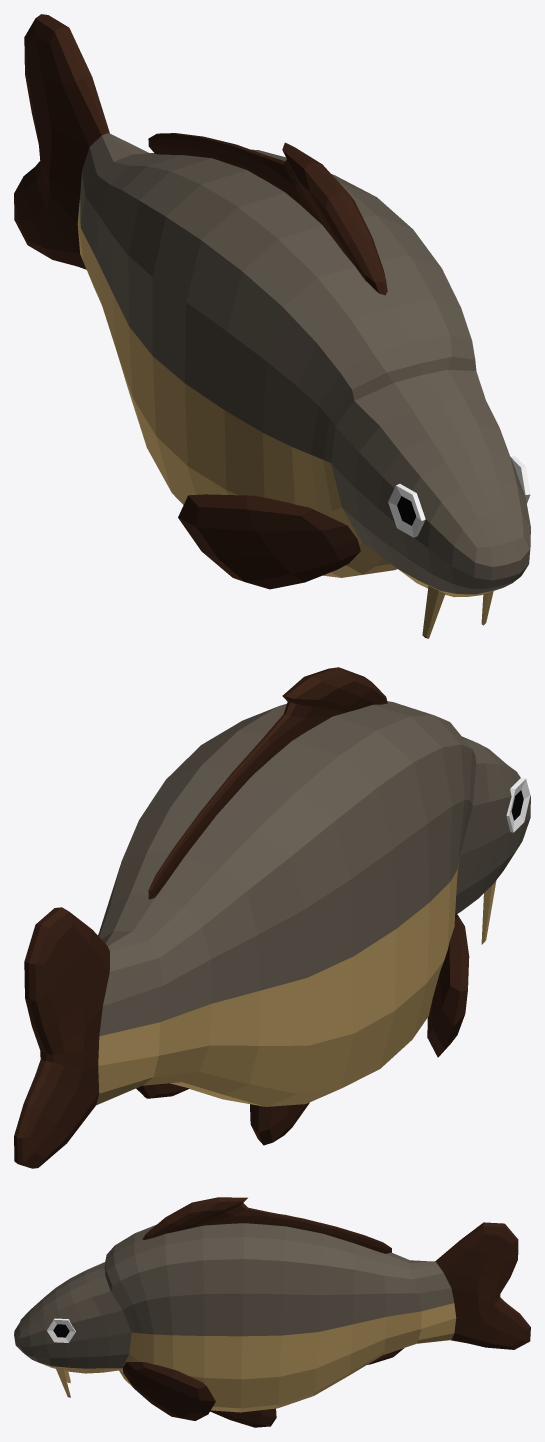
Rendered from Carp.fbx.
3 views of the same model, one above another, from view 1: azimuth 30°, elevation 25°; view 2: azimuth 150°, elevation 25°; view 3: azimuth 270°, elevation 25° (orthographic). The views are drawn at different scales.
Visible parts, largest first — view 1: Carp; view 2: Carp; view 3: Carp.
Part boxes in pixels (box(x1,y1,x2,y2)): Carp: box(14, 14, 530, 638); Carp: box(14, 667, 530, 1168); Carp: box(14, 1197, 530, 1427).
Bounding box in the file's own units: 0.1434 × 0.4415 × 0.2159.
